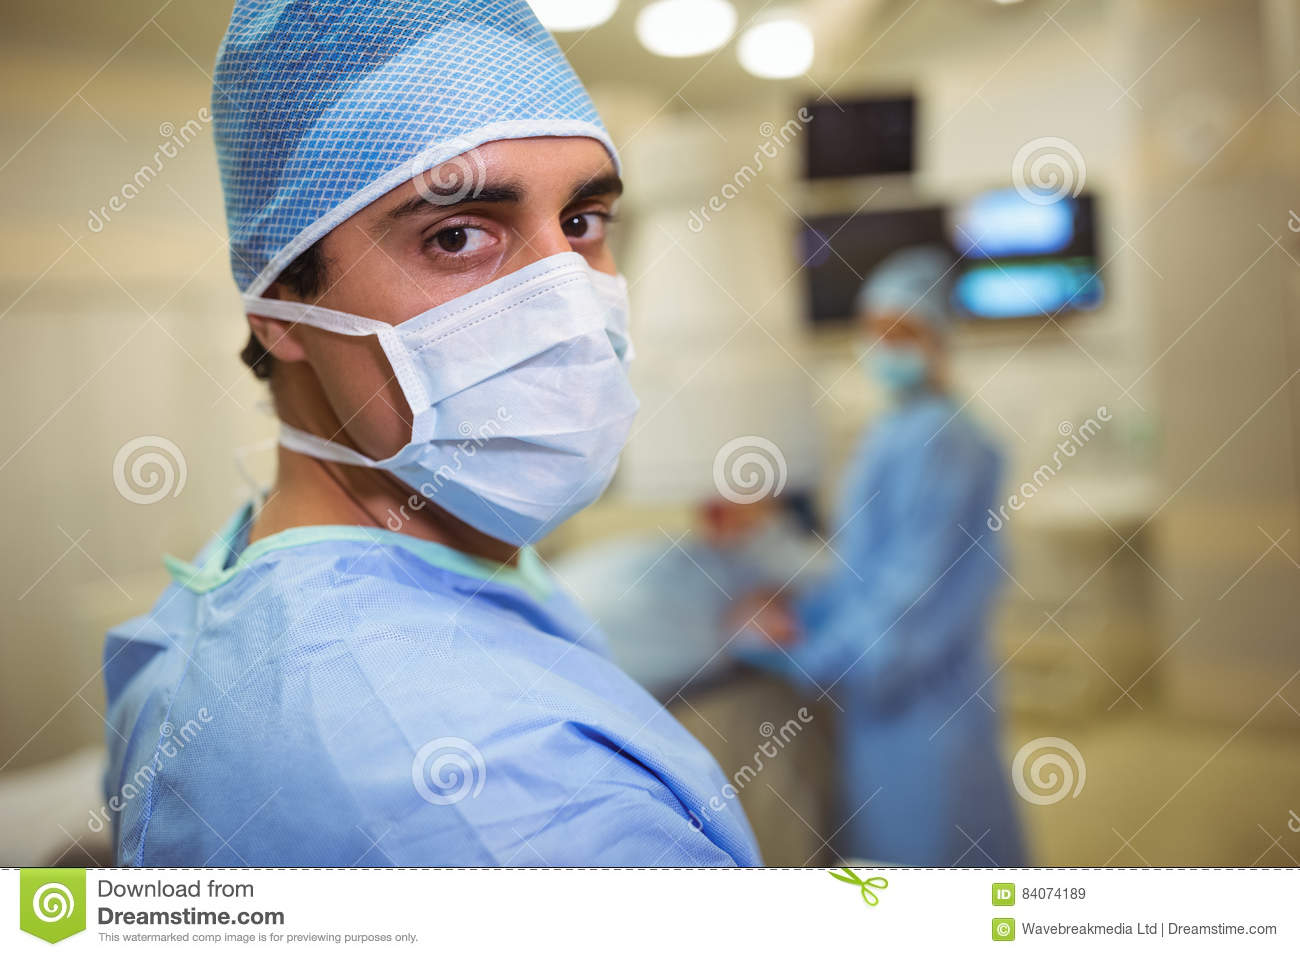mask: (383, 261, 651, 545)
